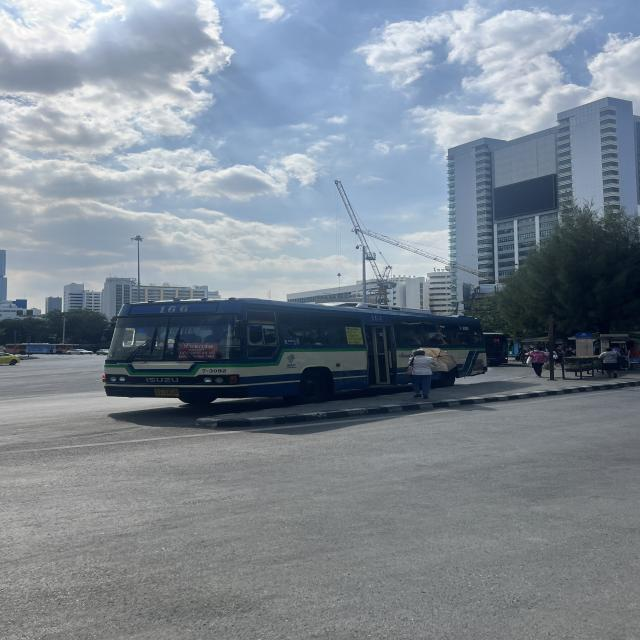BMTA-bus: (102, 281, 488, 410)
Bus Line Number: (156, 304, 192, 314)
Bus Side Number: (200, 368, 228, 374)
Destination Sign: (178, 342, 218, 360)
